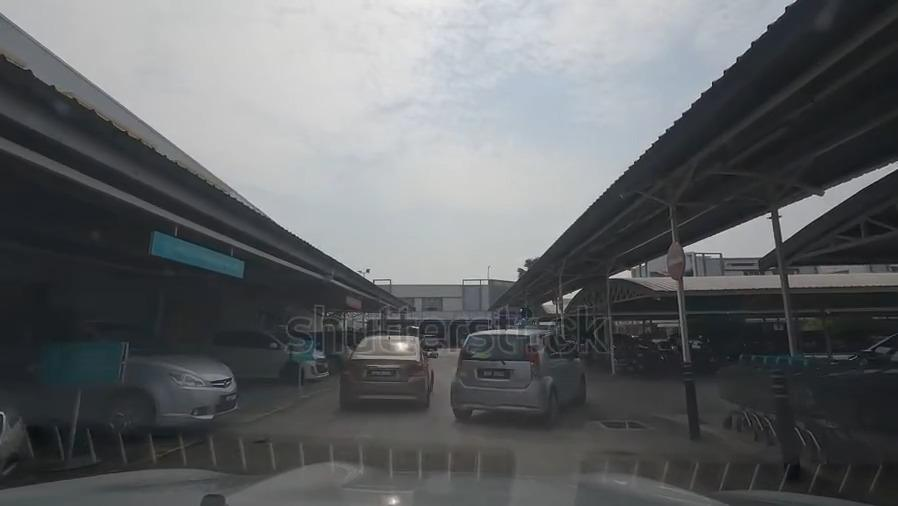car: (41, 316, 235, 432), (210, 329, 325, 385), (348, 335, 431, 404), (0, 395, 24, 471), (319, 334, 350, 370), (421, 331, 441, 351)
manhole: (461, 331, 583, 420), (594, 414, 644, 435)
wheel: (109, 391, 148, 438), (280, 361, 301, 385), (548, 390, 559, 425), (325, 354, 342, 374), (577, 374, 588, 403)
